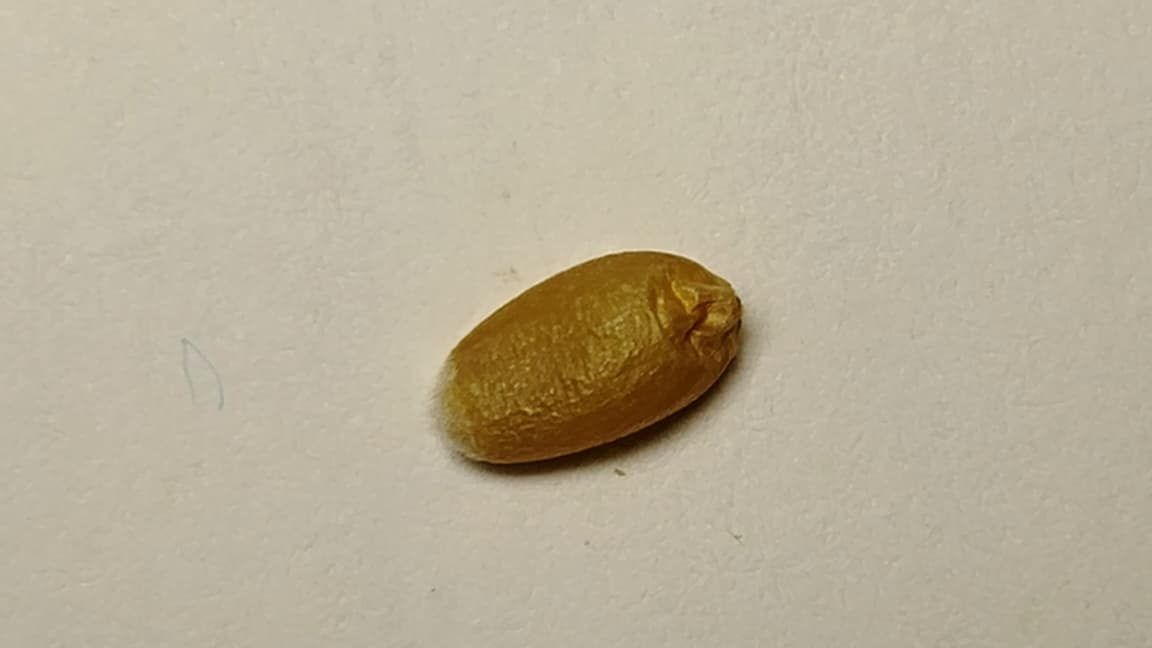healthy: (434, 251, 741, 462)
